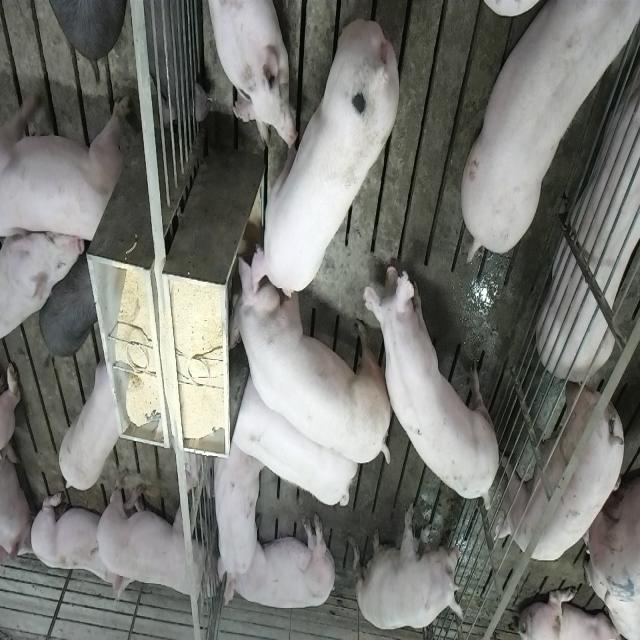Feeding: (246, 16, 402, 302), (222, 248, 388, 466)
Lateral_lying: (221, 512, 338, 612)
Sitting: (354, 502, 464, 633)
Standing: (463, 0, 640, 259), (367, 254, 503, 508), (499, 374, 632, 562), (2, 90, 128, 248), (93, 467, 217, 611), (229, 376, 359, 512), (56, 358, 125, 496)
Sternal_lying: (539, 32, 640, 382), (204, 0, 294, 150), (28, 483, 127, 608), (208, 436, 261, 594)
